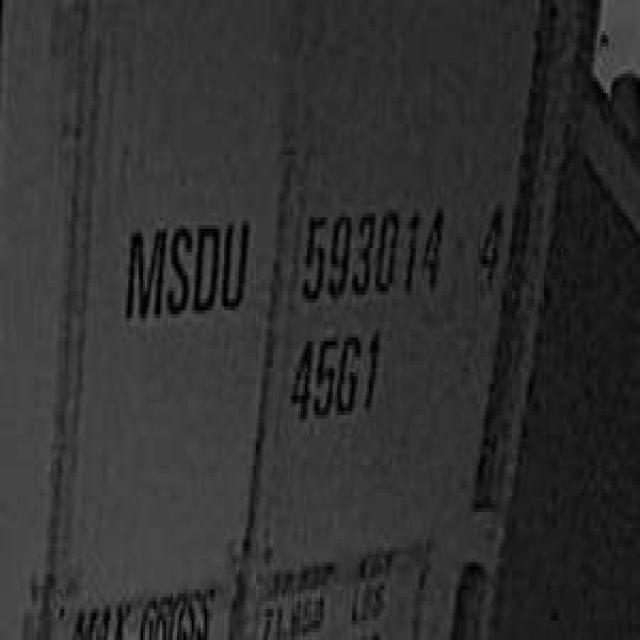dv: (468, 186, 510, 300)
owner: (117, 202, 252, 330)
serial: (296, 194, 446, 306)
size: (284, 318, 384, 427)
